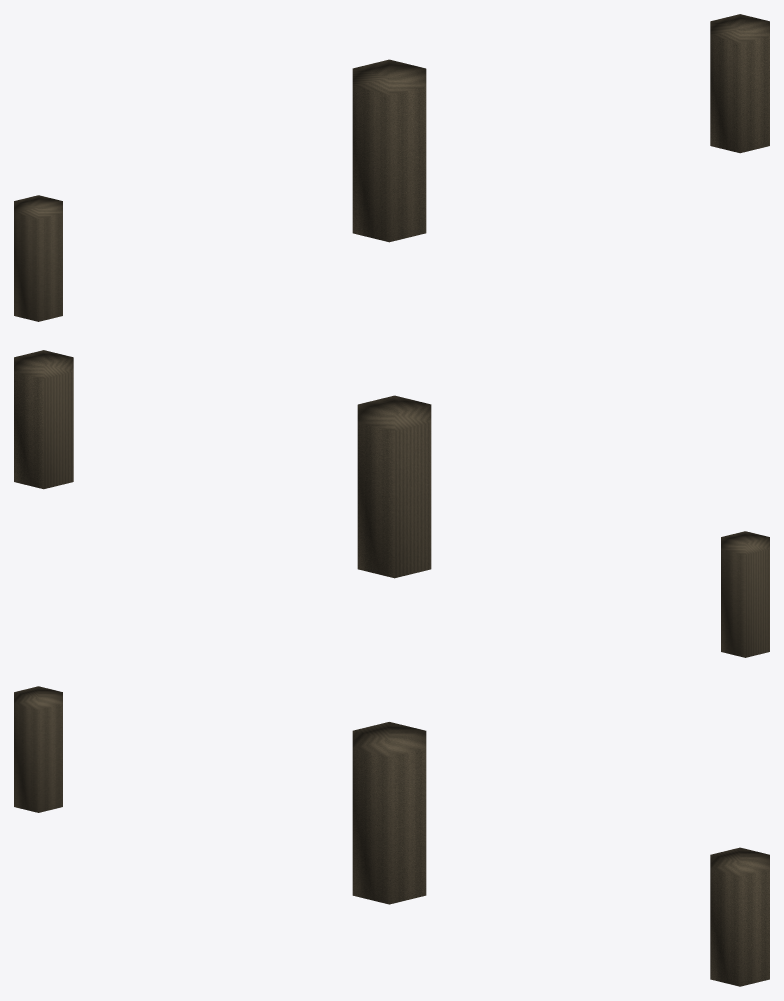
File: PZ_Swamp_Optional_CollisionHelpers.glb
3 views of the same model, one above another, from view 1: azimuth 30°, elevation 25°; view 2: azimuth 150°, elevation 25°; view 3: azimuth 330°, elevation 25° (orthographic).
Parts seen in each view (by area): view 1: UCX_SwampFoliage_Optional_ThreeTrunkColliders; view 2: UCX_SwampFoliage_Optional_ThreeTrunkColliders; view 3: UCX_SwampFoliage_Optional_ThreeTrunkColliders.
Part boxes in pixels (x1,y1,x2,y2): UCX_SwampFoliage_Optional_ThreeTrunkColliders: (14,14,769,321); UCX_SwampFoliage_Optional_ThreeTrunkColliders: (14,350,769,657); UCX_SwampFoliage_Optional_ThreeTrunkColliders: (14,686,769,986).
Size of the model in its own units: 4.31 by 0.8 by 0.3637.
1 material, 1 textured.
